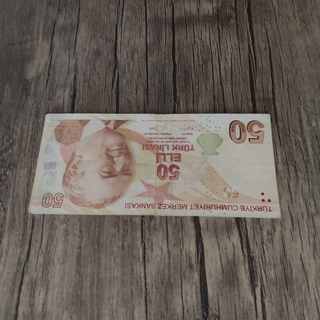50TLFront: (28, 113, 281, 219)
